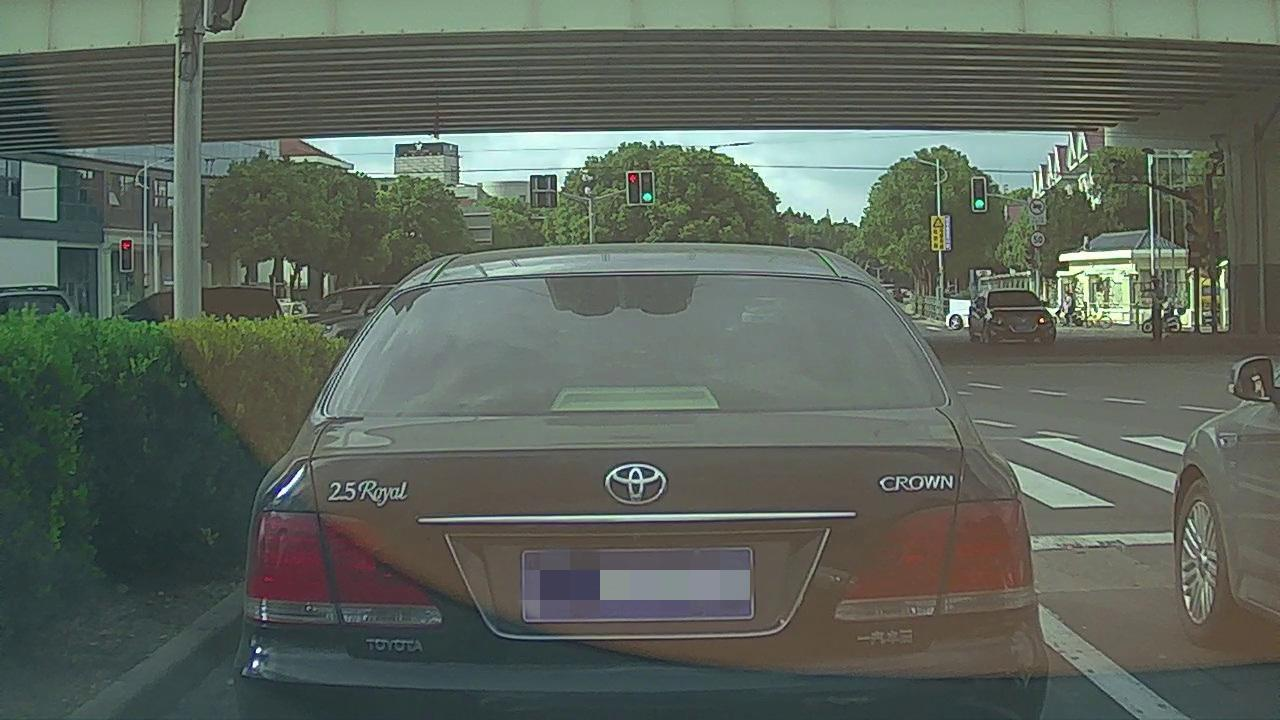traffic_light: (971, 178, 986, 211), (641, 172, 653, 204), (628, 172, 640, 203)
